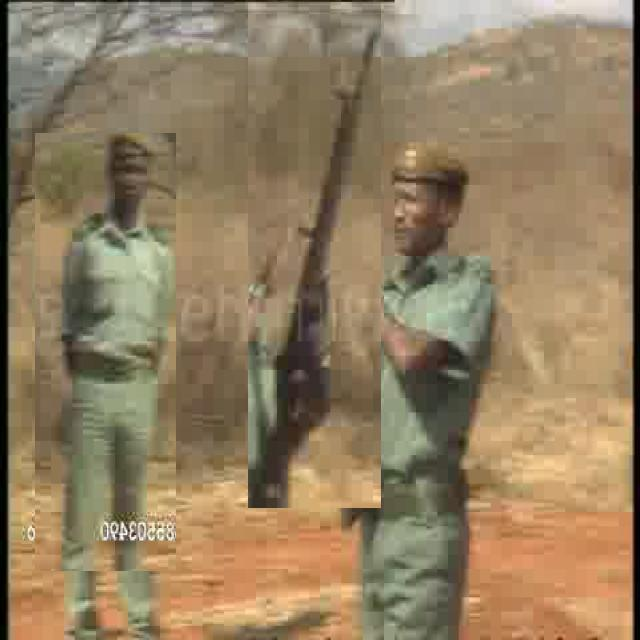poacher: (350, 98, 514, 586), (35, 133, 176, 571)
weapon: (248, 2, 381, 508)
